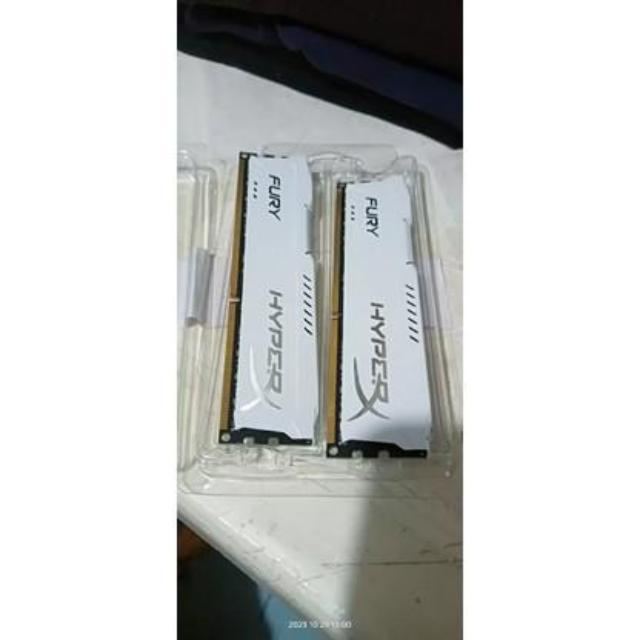RAM: (326, 168, 443, 472), (220, 142, 328, 464)
